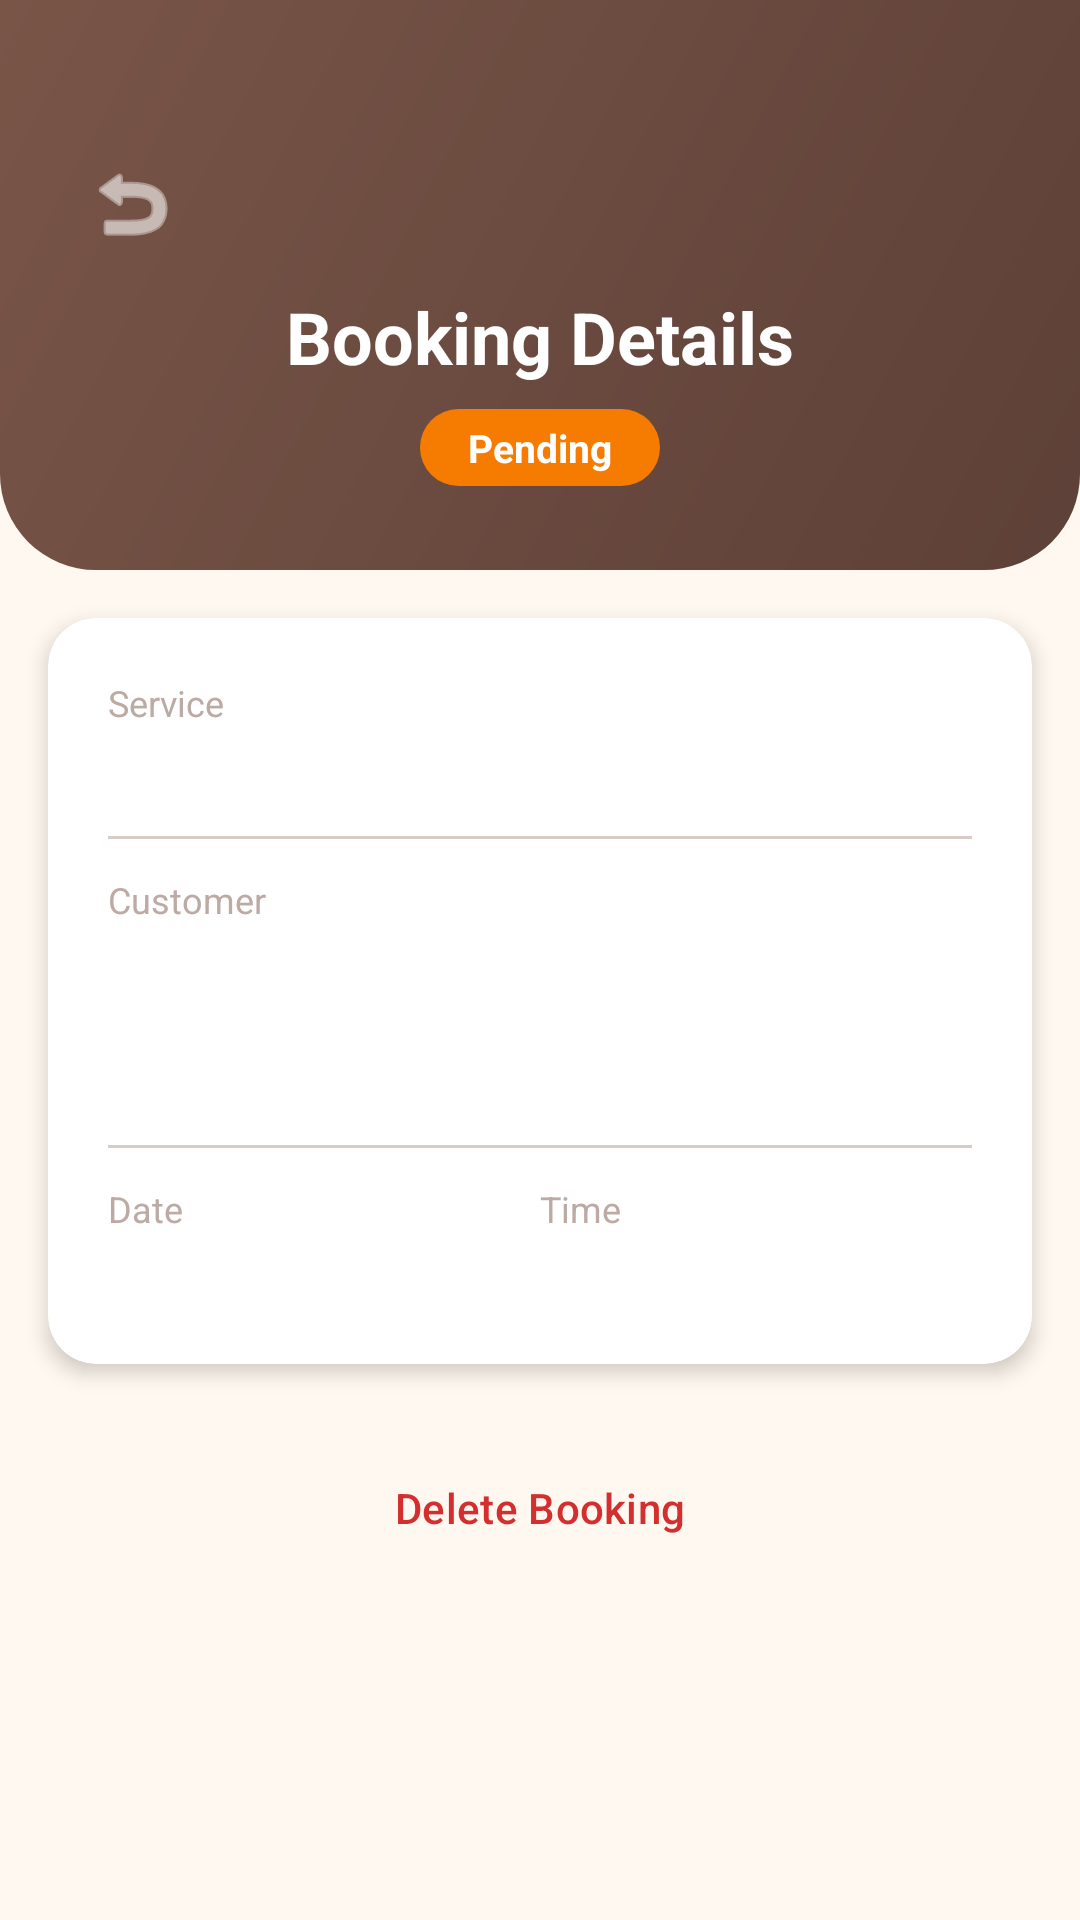

Named icons in this screenshot (1080*1920) and their bounding boxes, (x1, y1, x2, y2):
Back: (99, 173, 168, 236)
